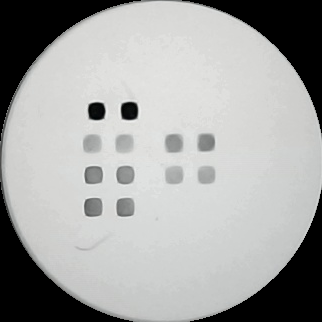检查点: (81, 132, 103, 157), (113, 134, 137, 155), (83, 196, 105, 218), (163, 133, 186, 154), (86, 101, 108, 121), (116, 164, 136, 186), (84, 165, 105, 185), (196, 165, 218, 184), (119, 101, 139, 121), (165, 165, 185, 185), (197, 132, 216, 153), (116, 198, 136, 217)
